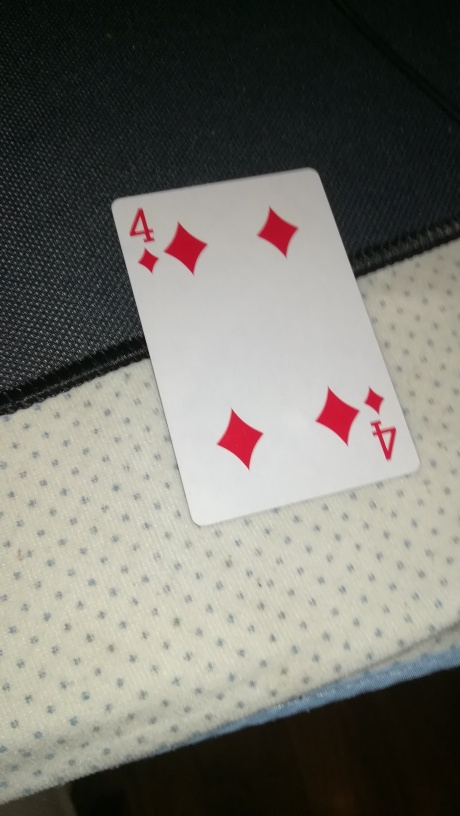fk 4: (110, 166, 423, 525)
